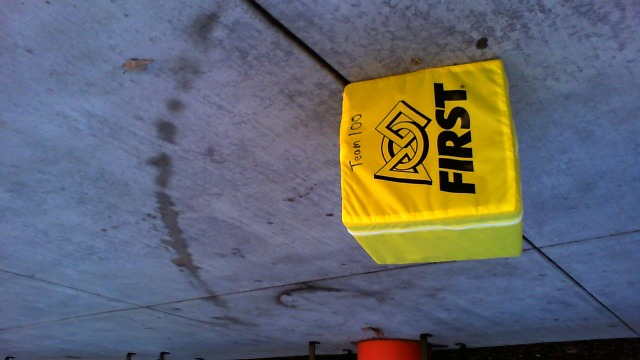cube: (327, 58, 534, 274)
